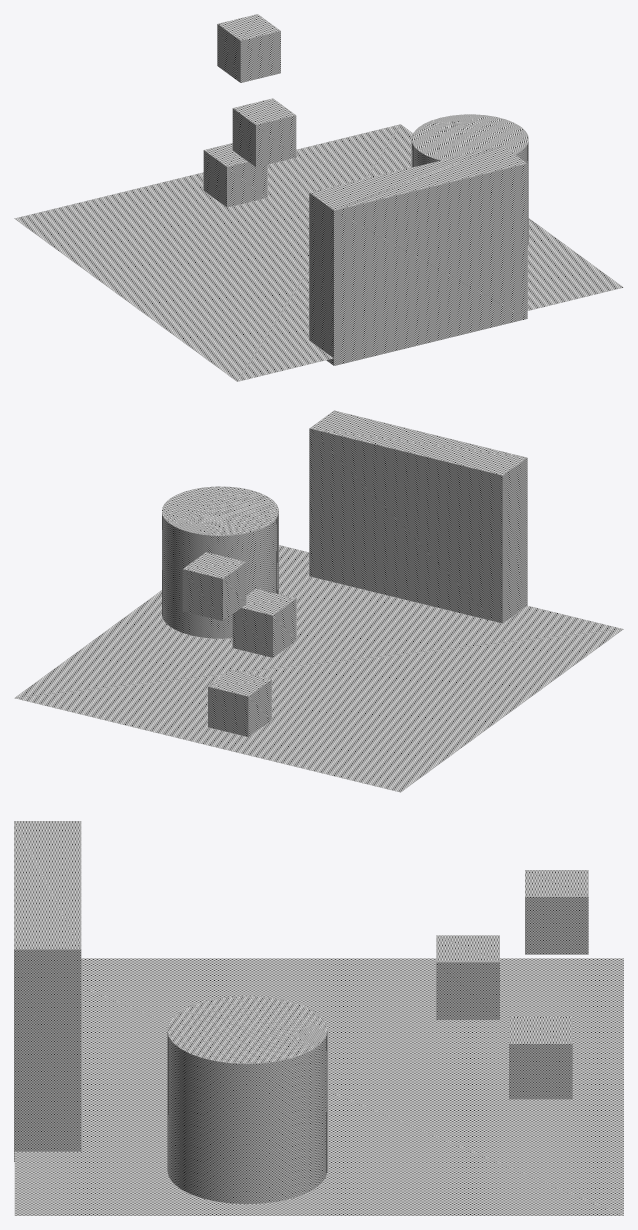
File: environment.fbx
3 renders of one model, top to bottom at view 1: azimuth 30°, elevation 25°; view 2: azimuth 150°, elevation 25°; view 3: azimuth 270°, elevation 25°, orthographic. The views are drawn at different scales.
Parts seen in each view (by area): view 1: camera3d_Environment 1, Floor 1; view 2: Floor 1, camera3d_Environment 1; view 3: Floor 1, camera3d_Environment 1.
Boxes of the visible parts, x1,y1,x2,y2 form: camera3d_Environment 1: [203, 14, 528, 365]; Floor 1: [14, 124, 623, 381]; Floor 1: [14, 545, 623, 792]; camera3d_Environment 1: [162, 410, 527, 736]; Floor 1: [14, 958, 623, 1215]; camera3d_Environment 1: [14, 821, 588, 1204].
Size of the model in its own units: 1736 by 1735 by 708.
Materials: 1 (1 with a texture image).
